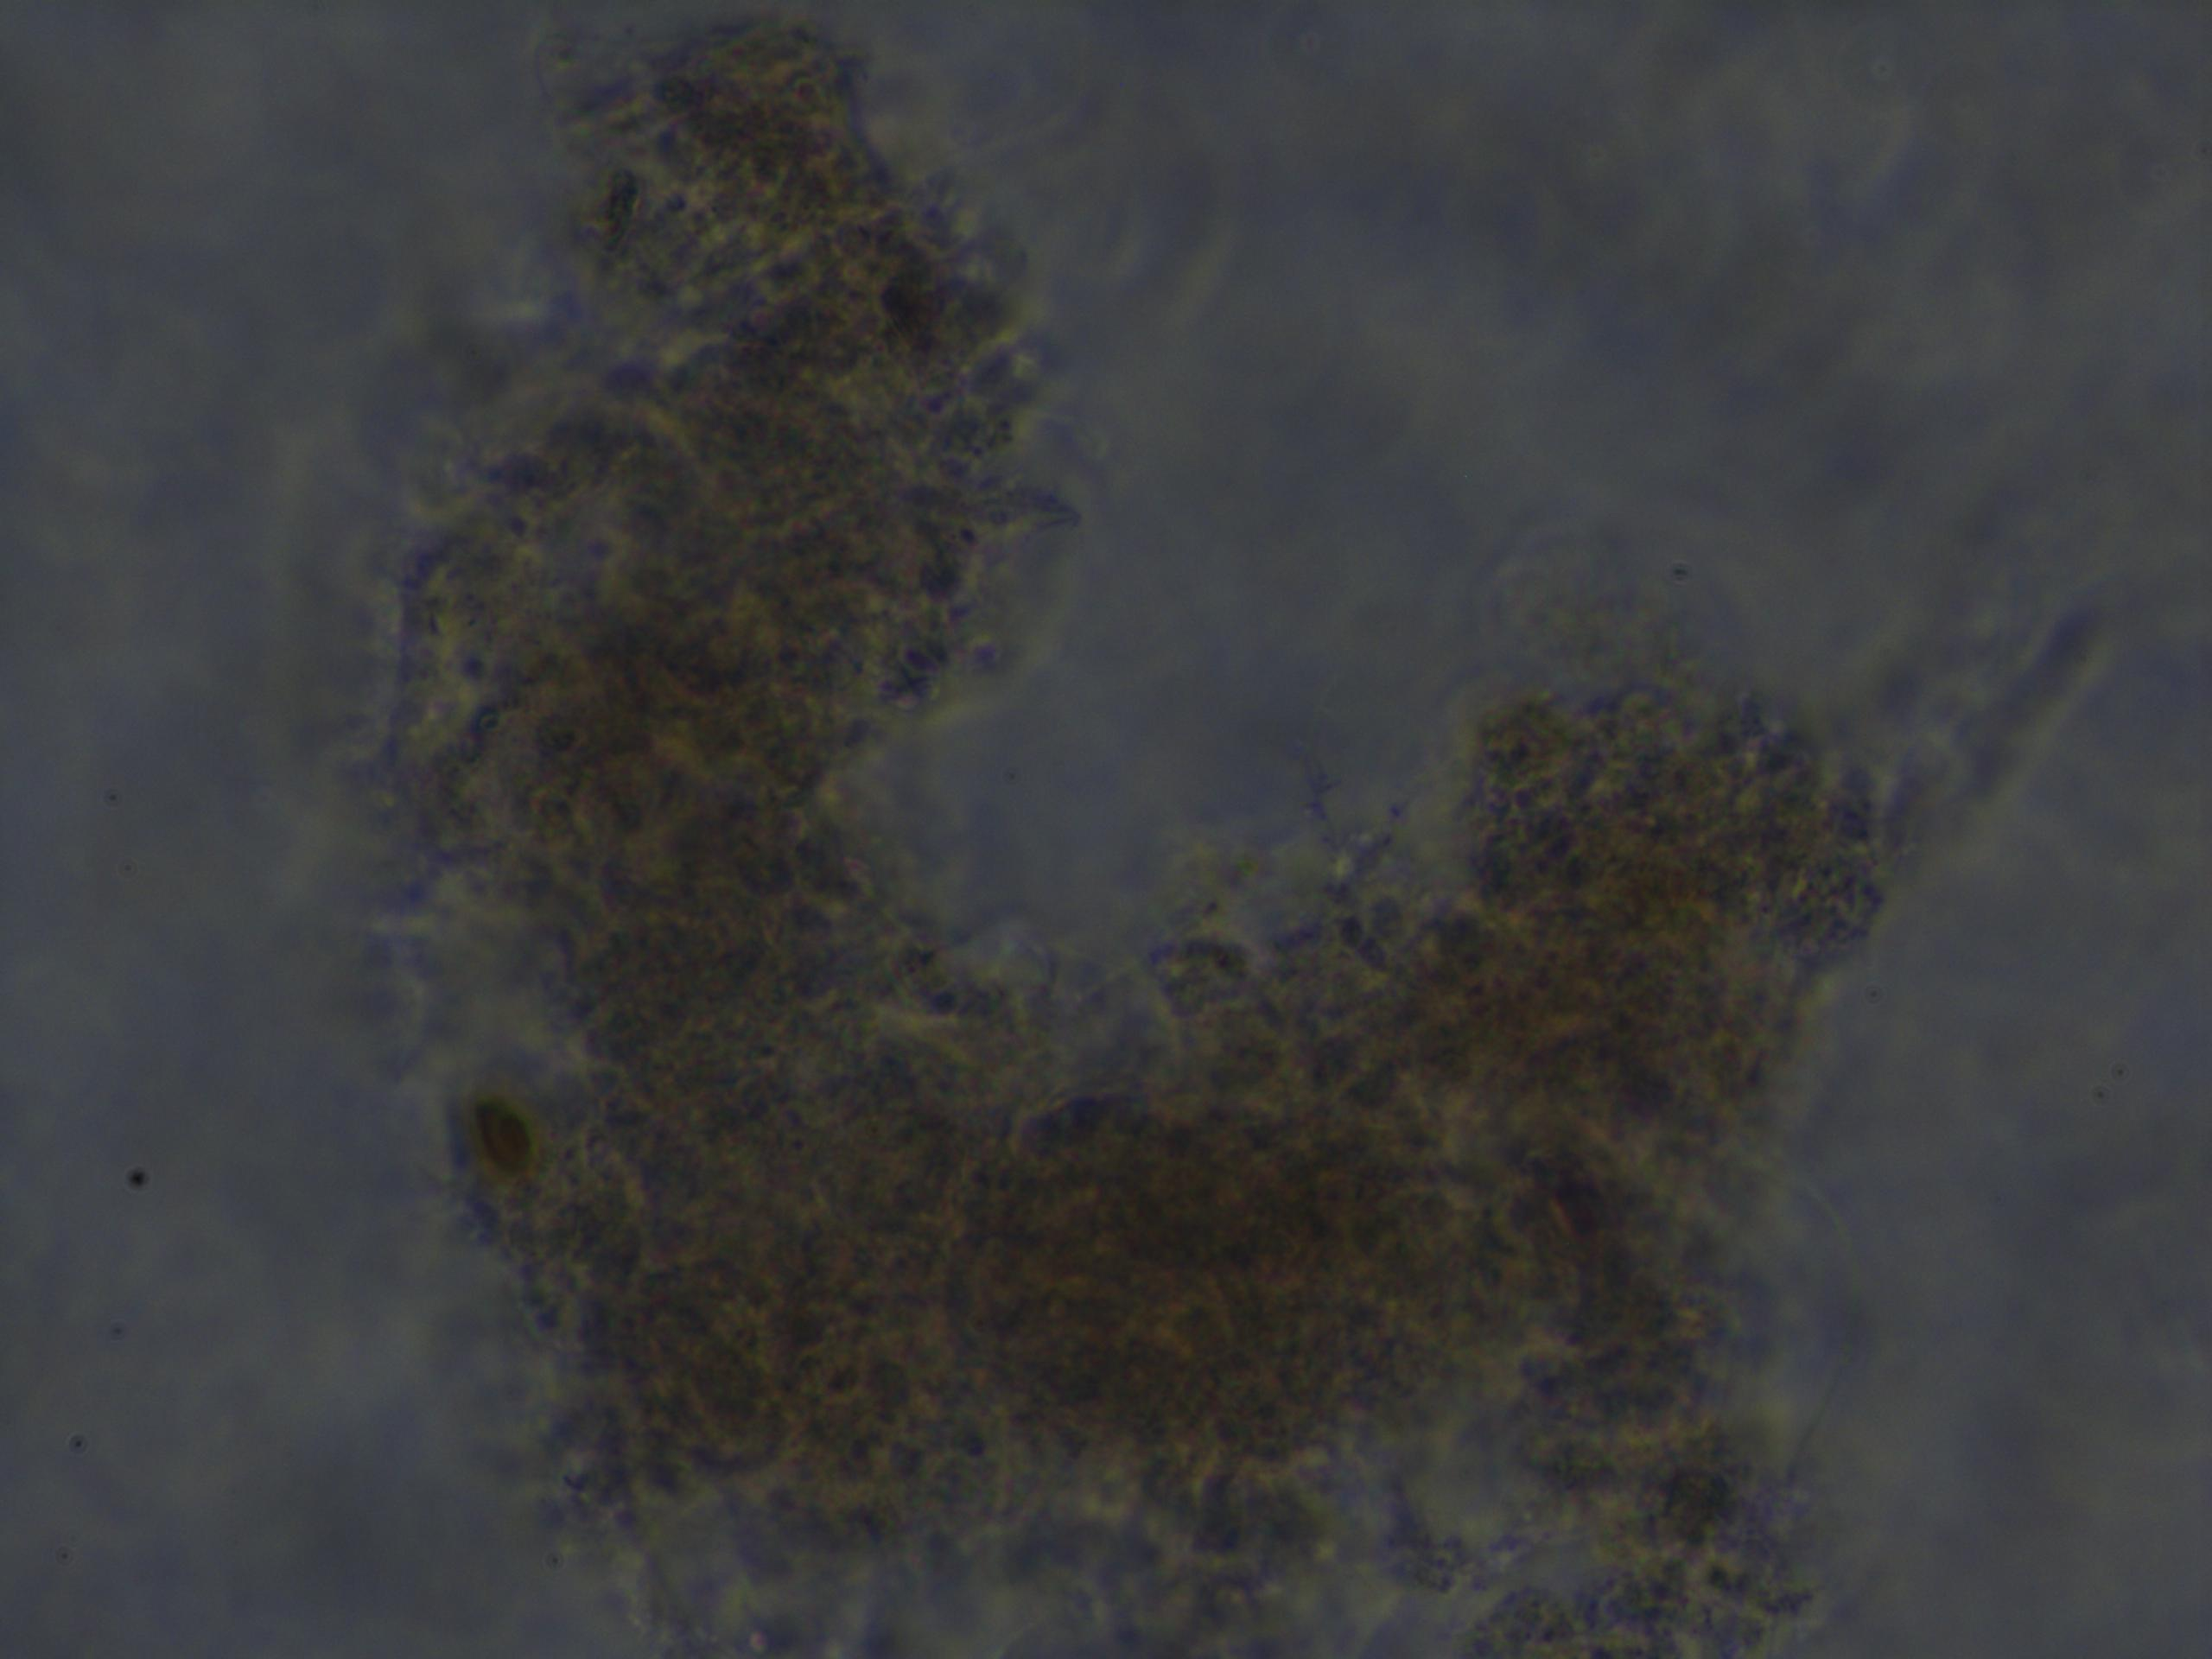open_floc: (368, 9, 1890, 1554)
